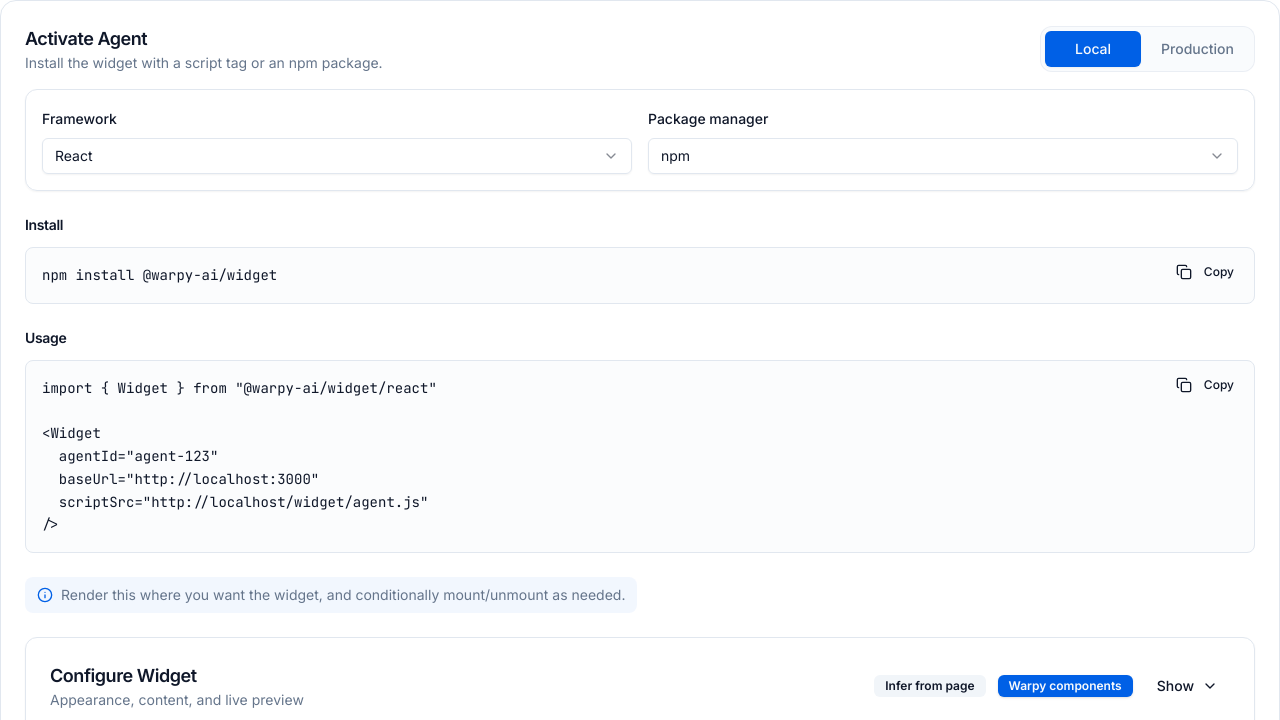
Scenario: AgentPanel › switches environment tabs
Click the button "production".
click(1198, 49)  # box [1145,31,1250,67]
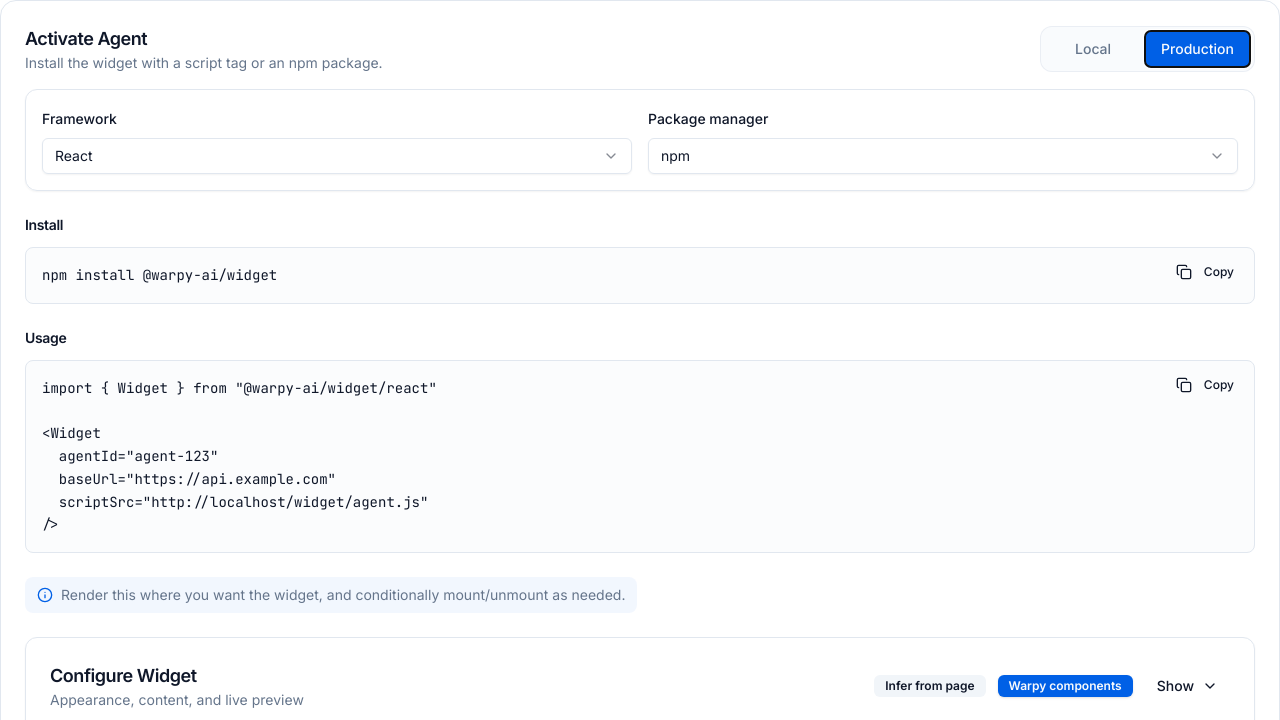
Now the element with test id "usage-code" shows "baseUrl=\"https://api.example.com\"", box [42,379,437,533]
